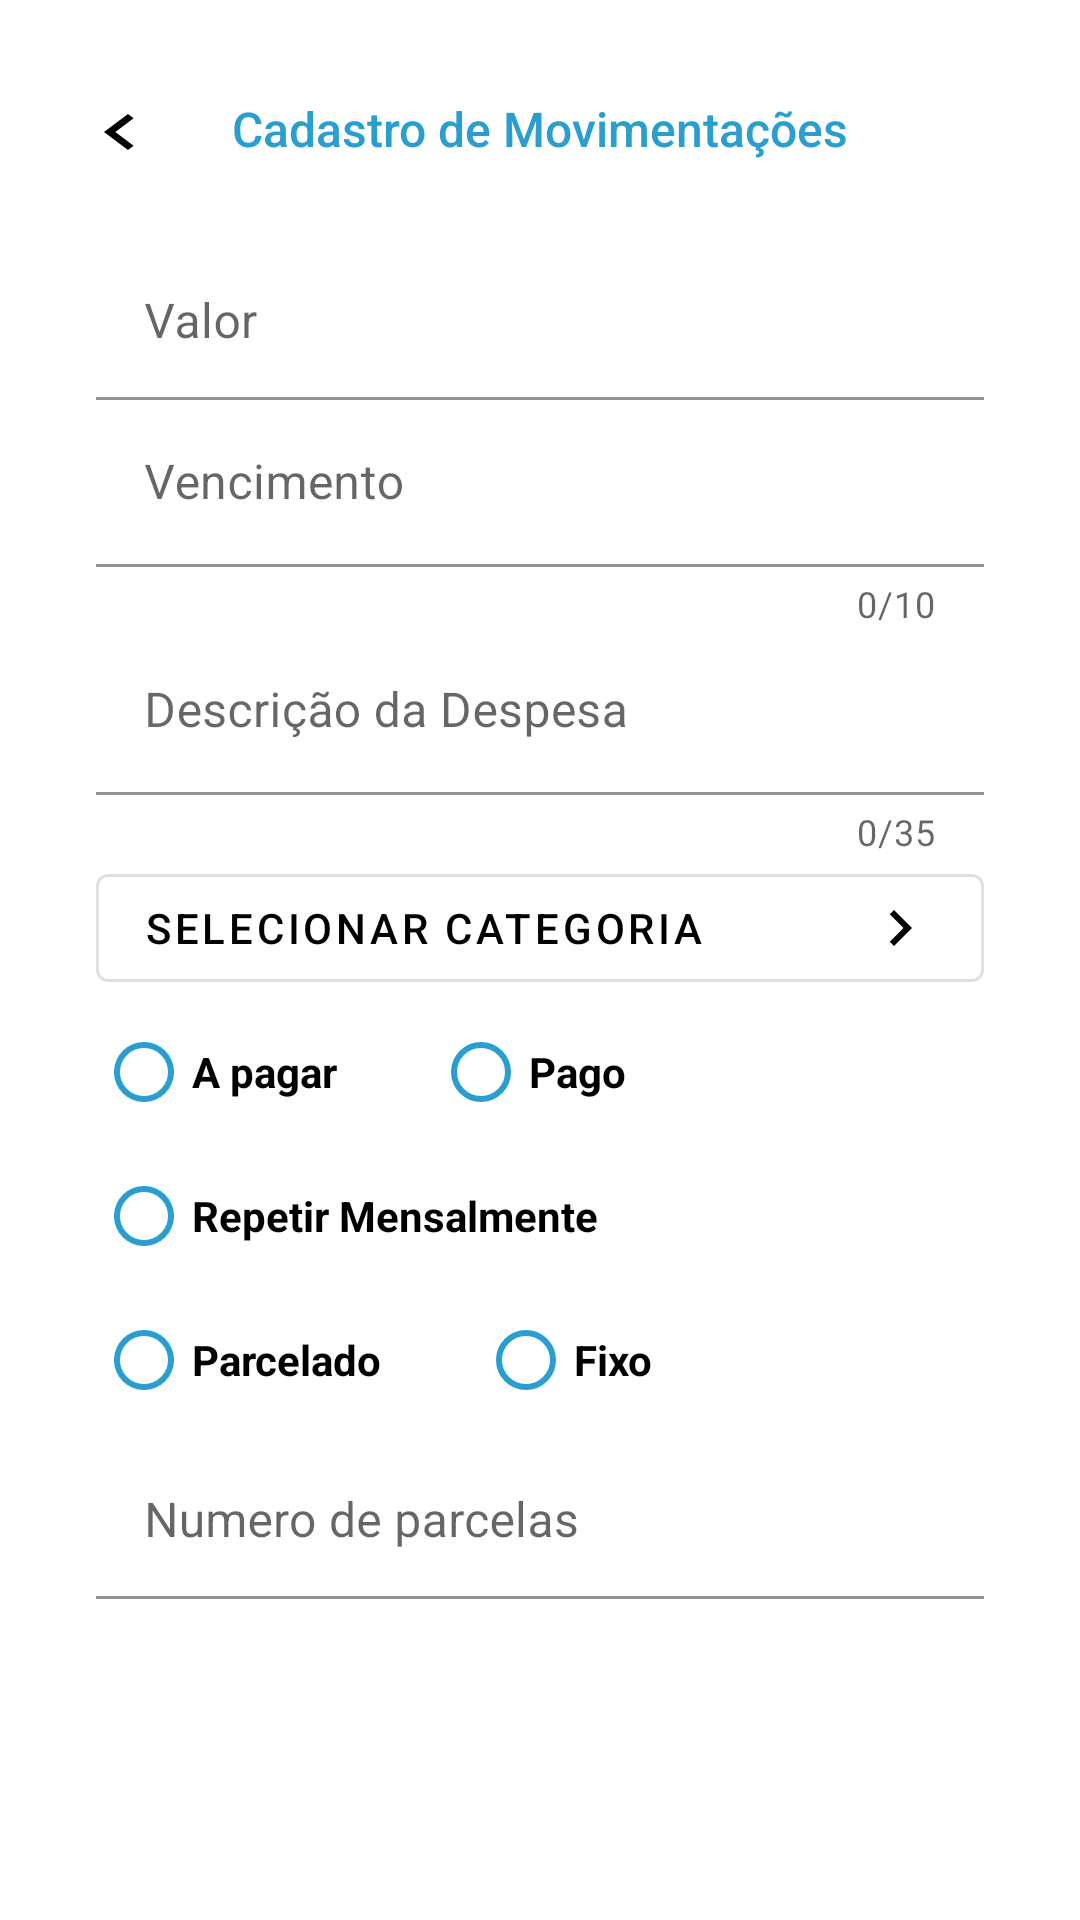

Icon click points for this 1080 × 1920 phone screenshot, format (x=x, y=y):
Voltar para tela anterior: (x=119, y=132)
